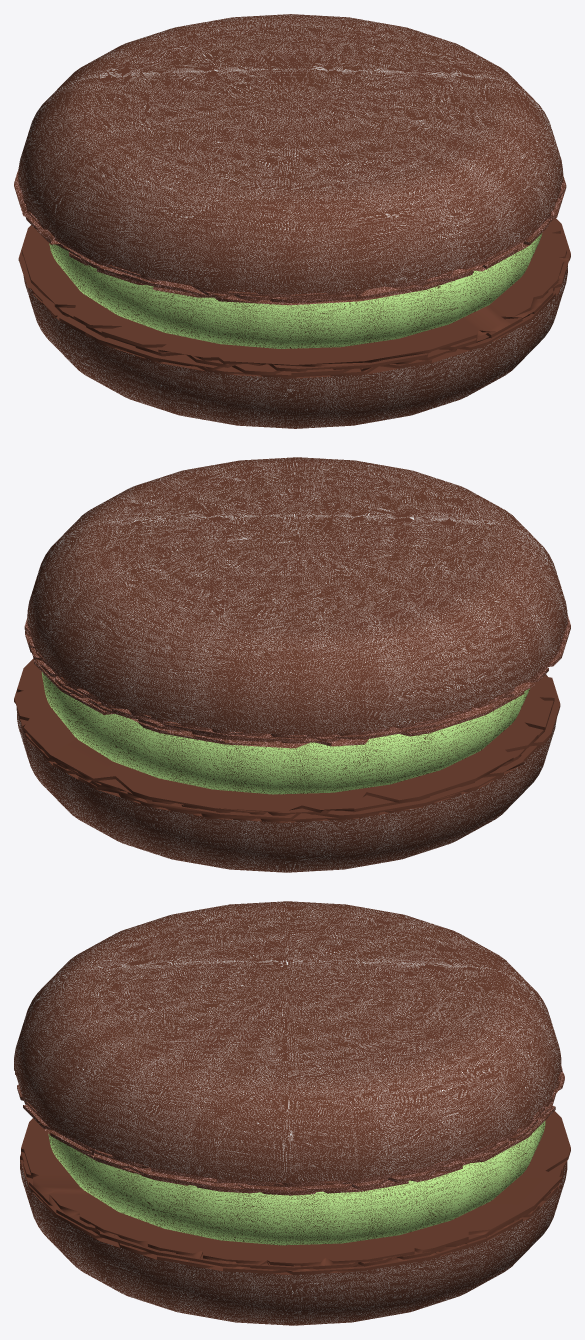
Rendered from chocolate.dae.
3 renders of one model, top to bottom at view 1: azimuth 30°, elevation 25°; view 2: azimuth 150°, elevation 25°; view 3: azimuth 270°, elevation 25°, orthographic.
Parts seen in each view (by area): view 1: Composant_5 (×5); view 2: Composant_5 (×5); view 3: Composant_5 (×5).
Boxes of the visible parts, x1,y1,x2,y2 form: Composant_5 (×5): (14, 14, 570, 428); Composant_5 (×5): (14, 457, 570, 872); Composant_5 (×5): (14, 901, 570, 1325).
Size of the model in its own units: 1.14 by 1.13 by 0.5612.
